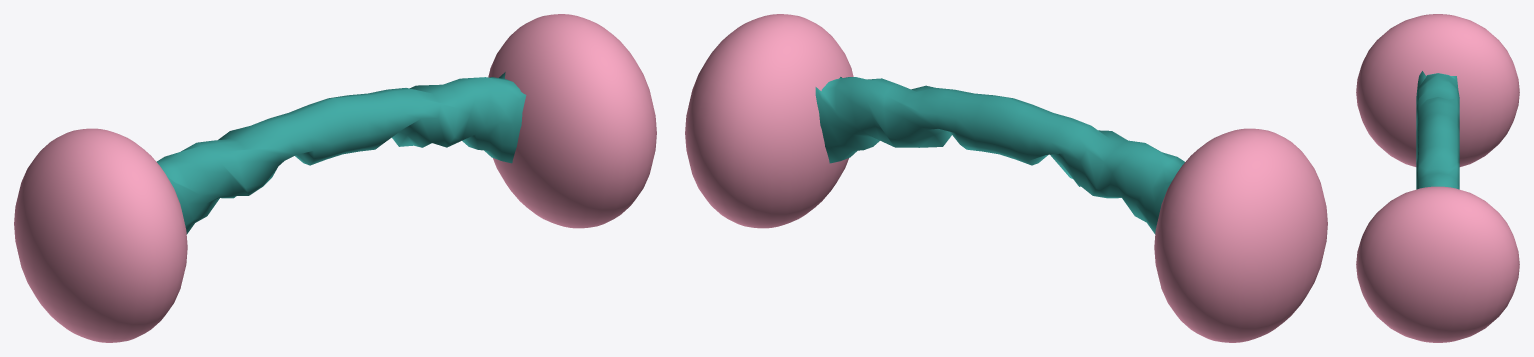
The model's file is earmuffs.glb.
3 renders of one model, left to right at view 1: azimuth 30°, elevation 25°; view 2: azimuth 150°, elevation 25°; view 3: azimuth 270°, elevation 25°, orthographic. The views are drawn at different scales.
Visible parts, largest first — view 1: earmuffs_Cup0, earmuffs_Cup1, earmuffs_Band; view 2: earmuffs_Cup0, earmuffs_Cup1, earmuffs_Band; view 3: earmuffs_Cup1, earmuffs_Cup0, earmuffs_Band.
Part boxes in pixels (<box>): earmuffs_Cup0: <box>14,128,187,342</box>; earmuffs_Cup1: <box>488,14,656,228</box>; earmuffs_Band: <box>156,72,526,234</box>; earmuffs_Cup0: <box>1154,128,1327,342</box>; earmuffs_Cup1: <box>685,14,853,228</box>; earmuffs_Band: <box>815,77,1184,234</box>; earmuffs_Cup1: <box>1356,186,1519,342</box>; earmuffs_Cup0: <box>1356,14,1519,166</box>; earmuffs_Band: <box>1416,71,1459,189</box>.
Bounding box in the file's own units: 0.482 × 0.15 × 0.15.
